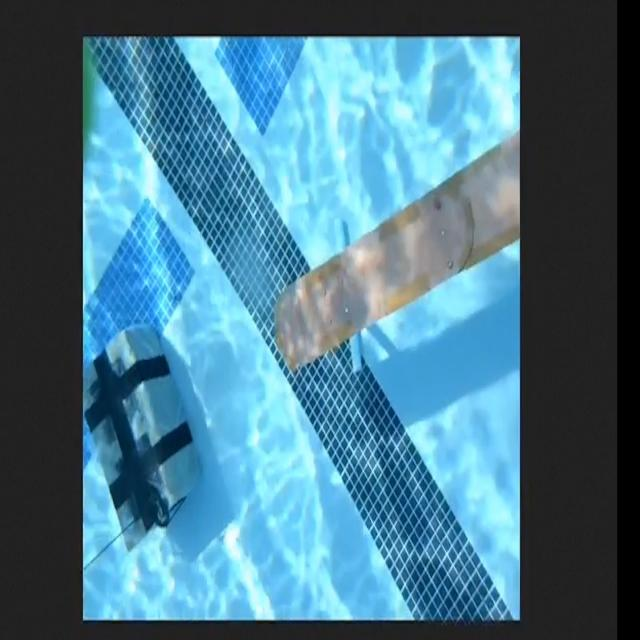Path: (267, 94, 521, 411)
